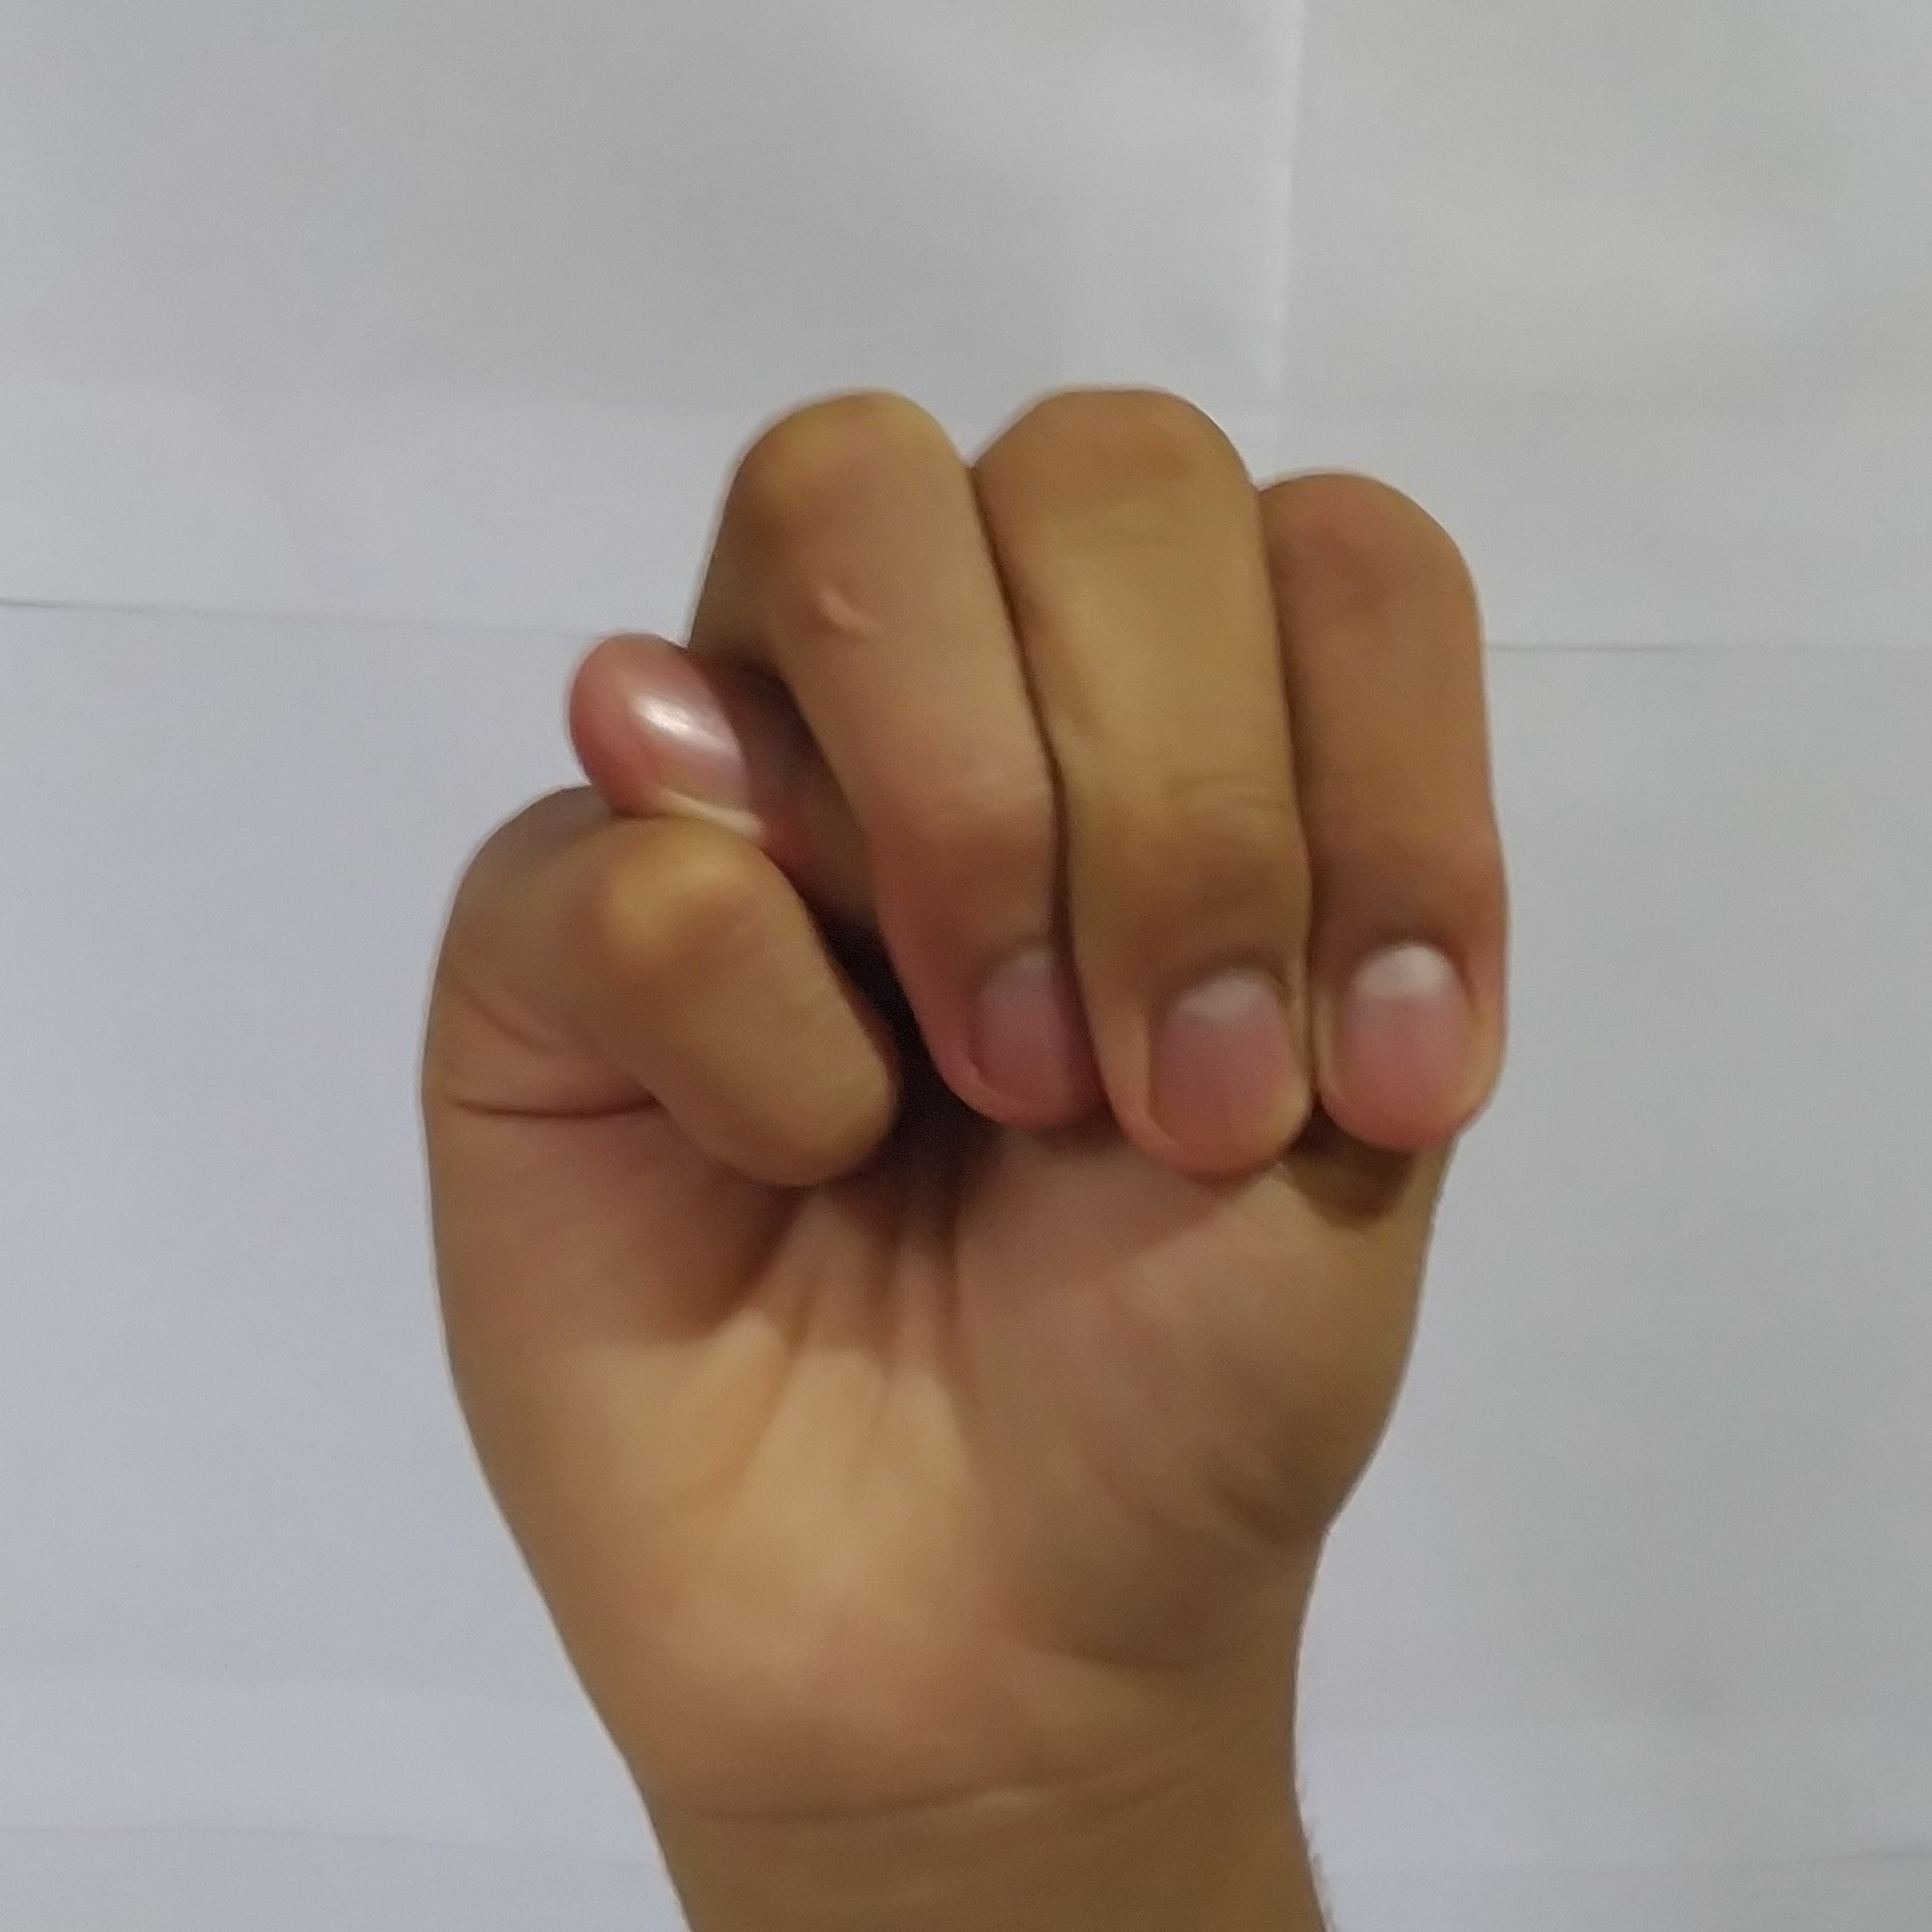M: (384, 352, 1537, 1783)
